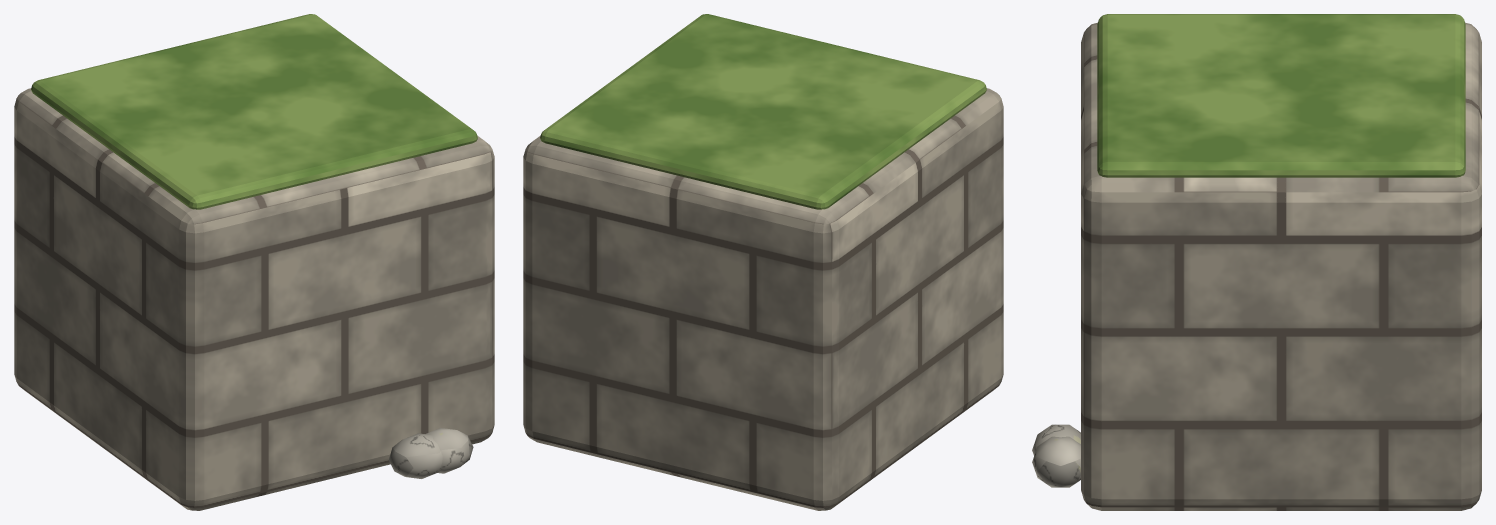
The model's file is wall0.glb.
3 views of the same model, side by side, from view 1: azimuth 30°, elevation 25°; view 2: azimuth 150°, elevation 25°; view 3: azimuth 270°, elevation 25° (orthographic). The views are drawn at different scales.
Parts seen in each view (by area): view 1: wall0; view 2: wall0; view 3: wall0.
Part boxes in pixels (x1=…): wall0: x1=14, y1=14, x2=494, y2=510; wall0: x1=523, y1=14, x2=1003, y2=510; wall0: x1=1032, y1=14, x2=1481, y2=510.
Bounding box in the file's own units: 0.98 × 0.94 × 1.1.
3 materials, 3 textured.
